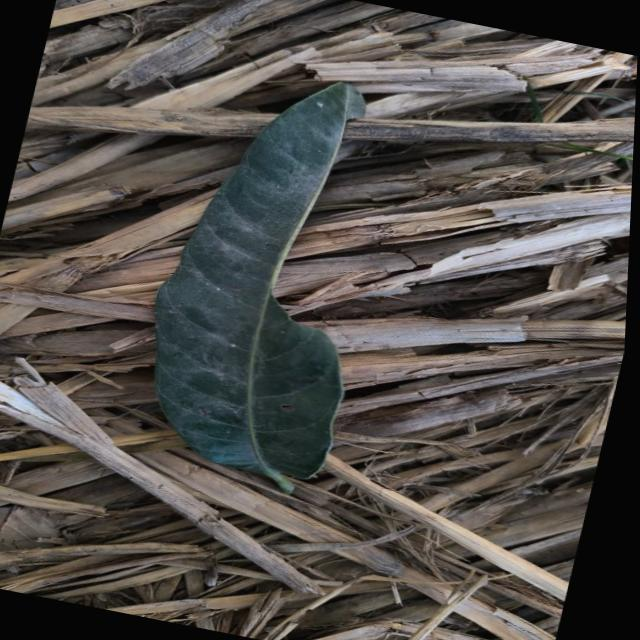Bacterial Cancer: (189, 375, 297, 437)
Powdery Mildew: (224, 341, 240, 350)
